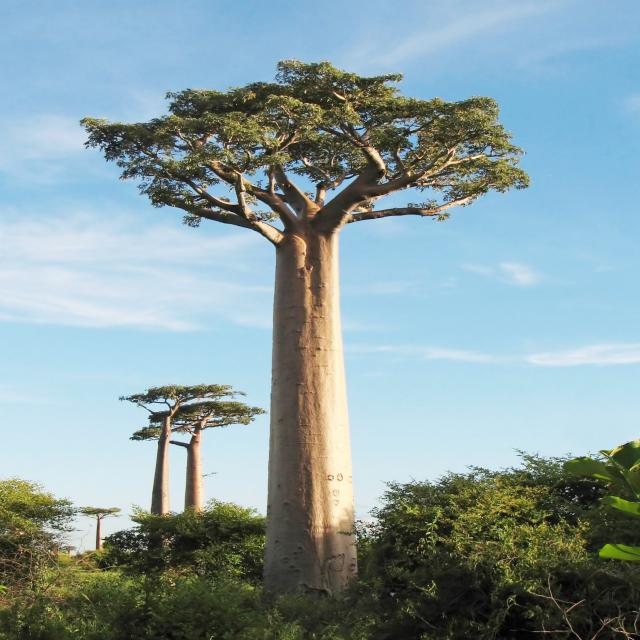baobab: (70, 59, 542, 607), (112, 382, 241, 520), (169, 399, 244, 516), (70, 505, 126, 552)
